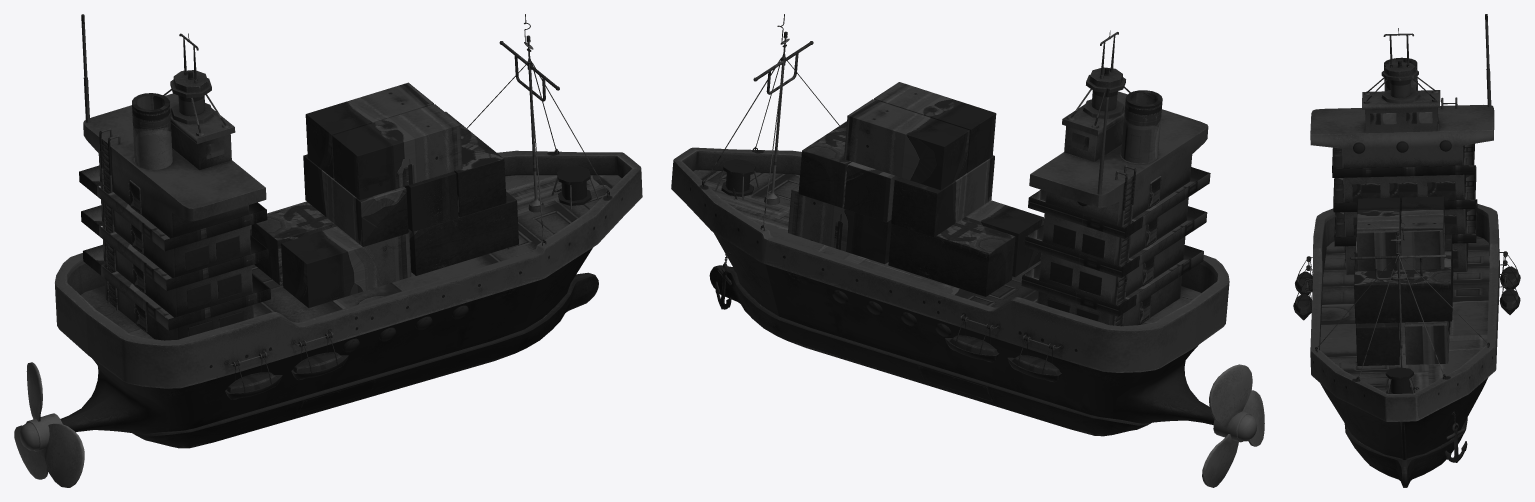
The model's file is boat1.fbx.
3 renders of one model, left to right at view 1: azimuth 30°, elevation 25°; view 2: azimuth 150°, elevation 25°; view 3: azimuth 270°, elevation 25°, orthographic. The views are drawn at different scales.
Visible parts, largest first — view 1: Object_6, Object_8; view 2: Object_6, Object_8; view 3: Object_6, Object_8.
Part boxes in pixels (box(x1,y1,x2,y2)): Object_6: box(14, 70, 642, 487); Object_8: box(79, 14, 621, 339); Object_6: box(671, 67, 1264, 487); Object_8: box(693, 14, 1210, 326); Object_6: box(1293, 62, 1520, 487); Object_8: box(1315, 14, 1491, 392).
Size of the model in its own units: 15099 by 10198 by 6042.
Materials: 2 (2 with a texture image).
